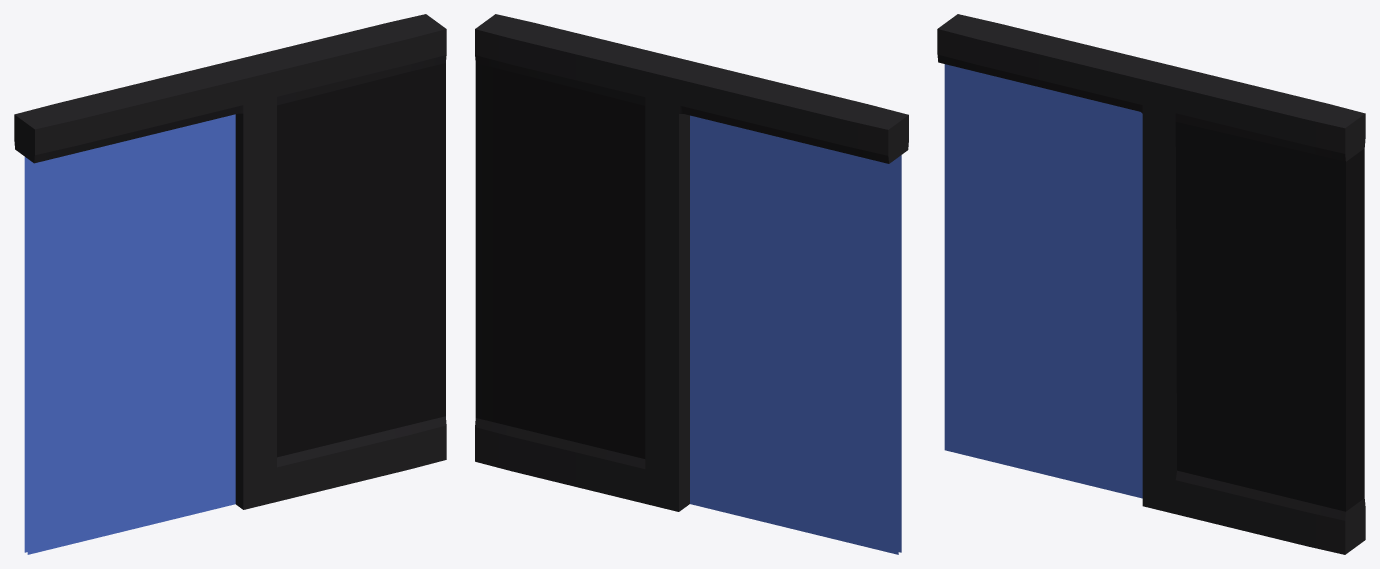
The model's file is Wall_Windowpane_Corner.fbx.
3 views of the same model, side by side, from view 1: azimuth 30°, elevation 25°; view 2: azimuth 150°, elevation 25°; view 3: azimuth 330°, elevation 25° (orthographic).
Visible parts, largest first — view 1: Wall_Windowpane_Corner; view 2: Wall_Windowpane_Corner; view 3: Wall_Windowpane_Corner.
Part boxes in pixels (x1,y1,x2,y2): Wall_Windowpane_Corner: [14, 14, 446, 554]; Wall_Windowpane_Corner: [475, 14, 908, 554]; Wall_Windowpane_Corner: [937, 14, 1365, 554].
Size of the model in its own units: 500 by 500 by 46.
